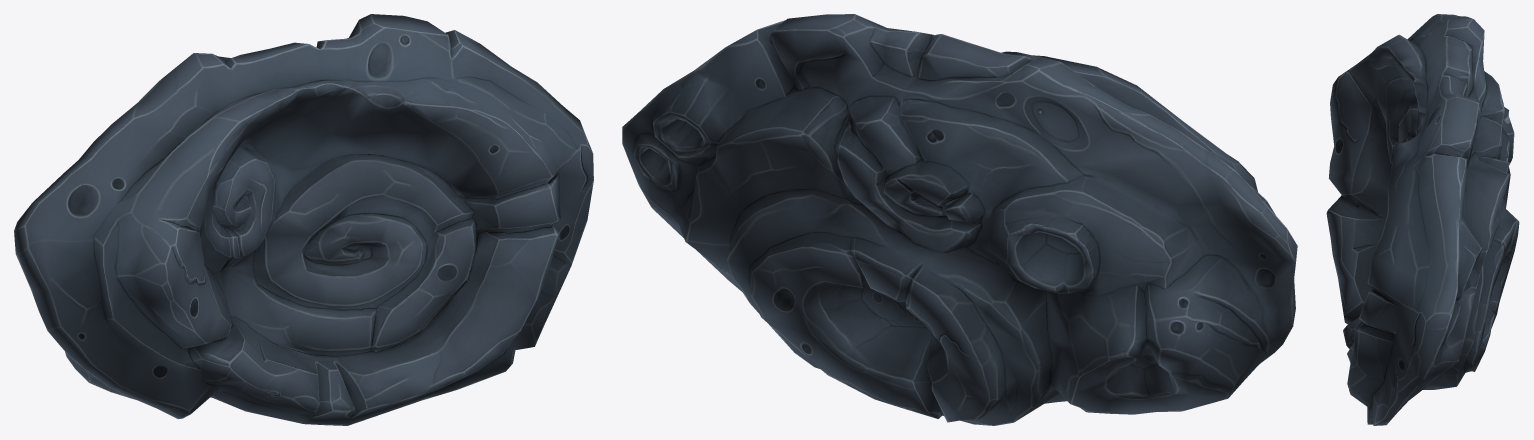
The model's file is rock3.glb.
3 renders of one model, left to right at view 1: azimuth 30°, elevation 25°; view 2: azimuth 150°, elevation 25°; view 3: azimuth 270°, elevation 25°, orthographic. The views are drawn at different scales.
Parts seen in each view (by area): view 1: node_id172; view 2: node_id172; view 3: node_id172.
Part boxes in pixels (box(x1,y1,x2,y2)): node_id172: box(14, 14, 593, 425); node_id172: box(622, 14, 1297, 425); node_id172: box(1326, 14, 1519, 425).
Size of the model in its own units: 0.2491 by 0.1443 by 0.0815.
Materials: 1 (1 with a texture image).
